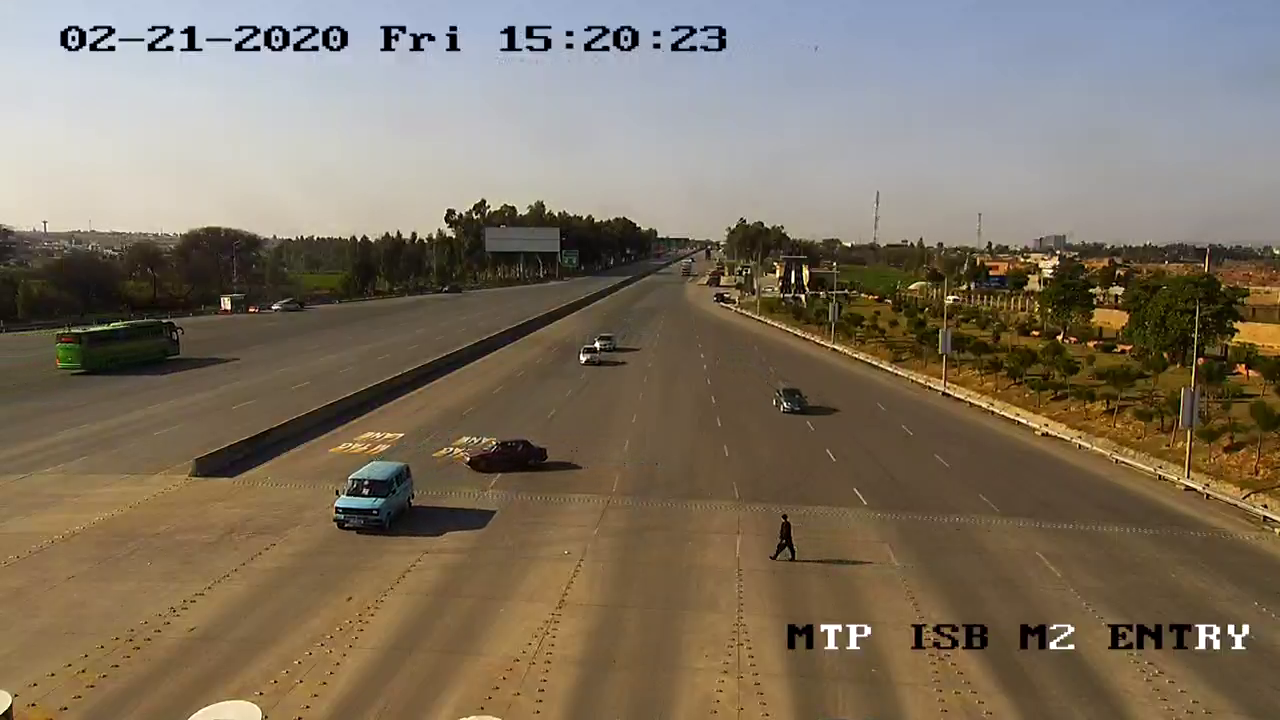f1: (330, 456, 424, 539)
